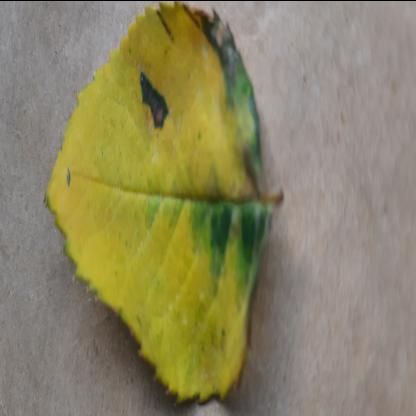black-spot: (43, 3, 268, 401)
